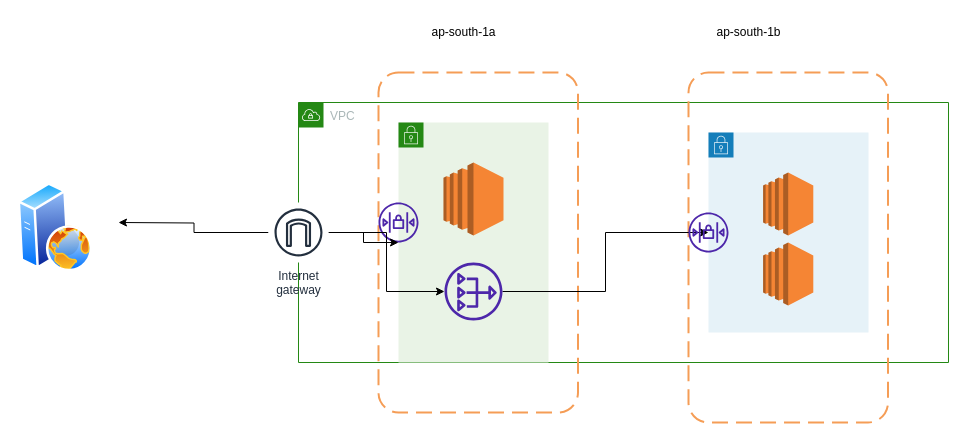
This 966x440 diagram has some shape labels left out. The box of each missing label's shape, as (x1, y1, x2, y2) in pixels:
Private subnet: (708, 132, 868, 332)
Public subnet: (398, 122, 548, 362)
